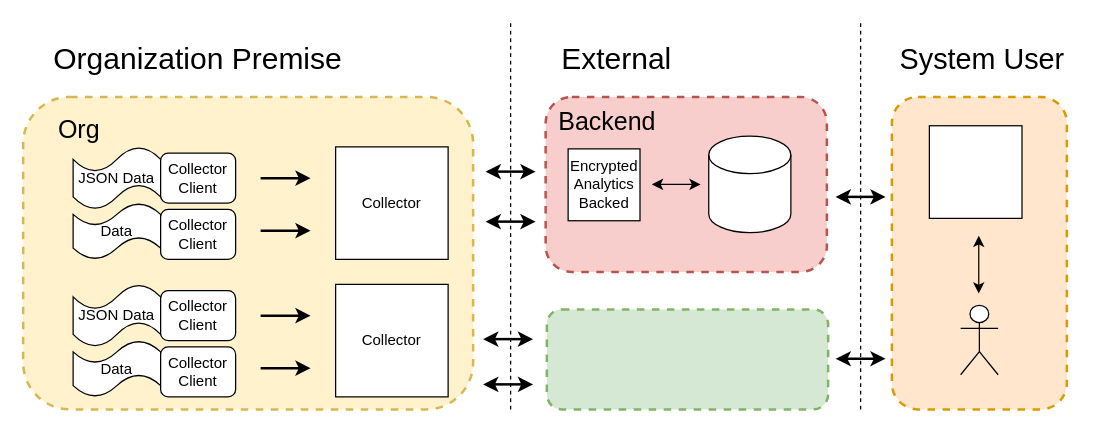
Image size: 1094x433. Some labels were removed from this diagram. Here are the shapes that lost their labels. From the top down, the centre of each, then its label:
At point 749,184: "Encrypted Data DB".
At point 975,171: "Query Client".
At point 687,359: "KMS".
